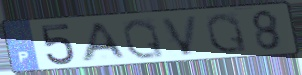5: (37, 22, 77, 66)
8: (250, 8, 285, 52)
A: (79, 21, 130, 63)
Q: (204, 11, 251, 55), (121, 17, 167, 61)
V: (158, 13, 201, 58)
